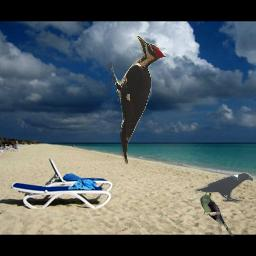Crow: (194, 172, 253, 202)
Cuckoo: (200, 191, 235, 237)
Woodpecker: (107, 35, 166, 164)
